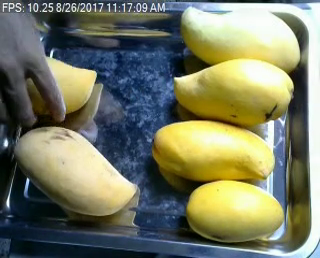Mango: (14, 127, 136, 215), (179, 6, 299, 72), (152, 120, 276, 183), (173, 58, 293, 123), (187, 180, 283, 241), (0, 57, 96, 116)
